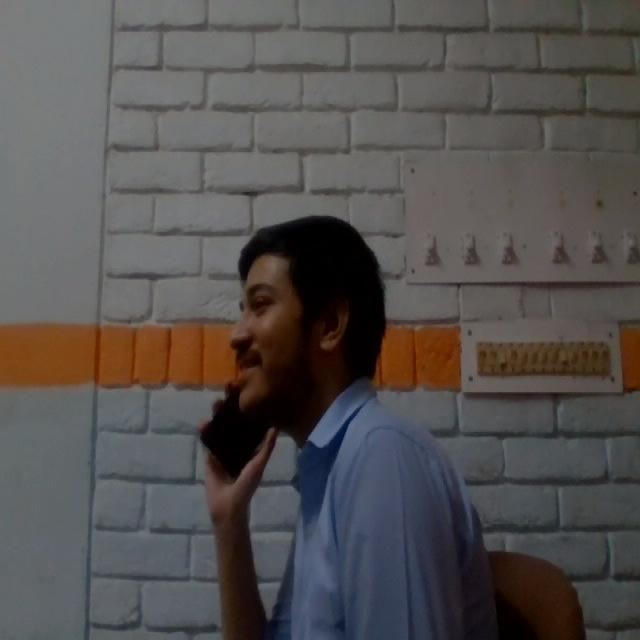oncall: (195, 205, 500, 640)
phone: (198, 373, 272, 483)
